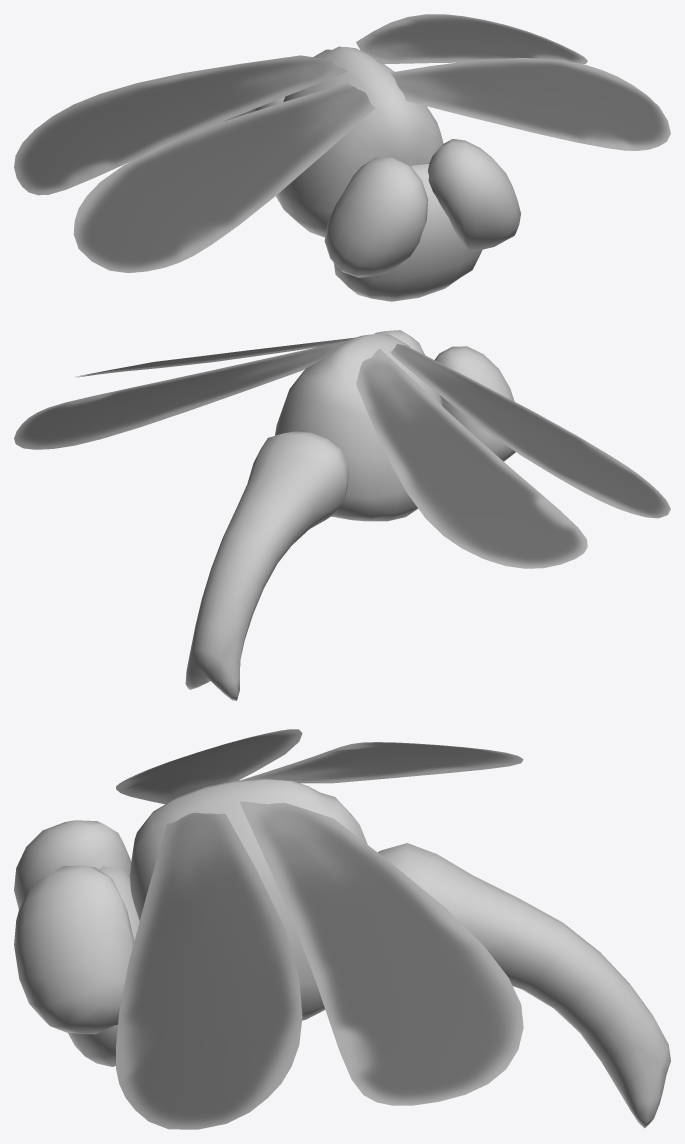
The model's file is dragonfly.FBX.
3 renders of one model, top to bottom at view 1: azimuth 30°, elevation 25°; view 2: azimuth 150°, elevation 25°; view 3: azimuth 270°, elevation 25°, orthographic. The views are drawn at different scales.
Parts seen in each view (by area): view 1: dragonfly; view 2: dragonfly; view 3: dragonfly.
Boxes of the visible parts, <box> form: dragonfly: <box>14,14,670,301</box>; dragonfly: <box>14,330,670,700</box>; dragonfly: <box>14,729,670,1129</box>.
Bounding box in the file's own units: 61.48 × 25.08 × 44.93.
